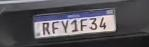Placa_mercosul_carro: (33, 8, 117, 39)
